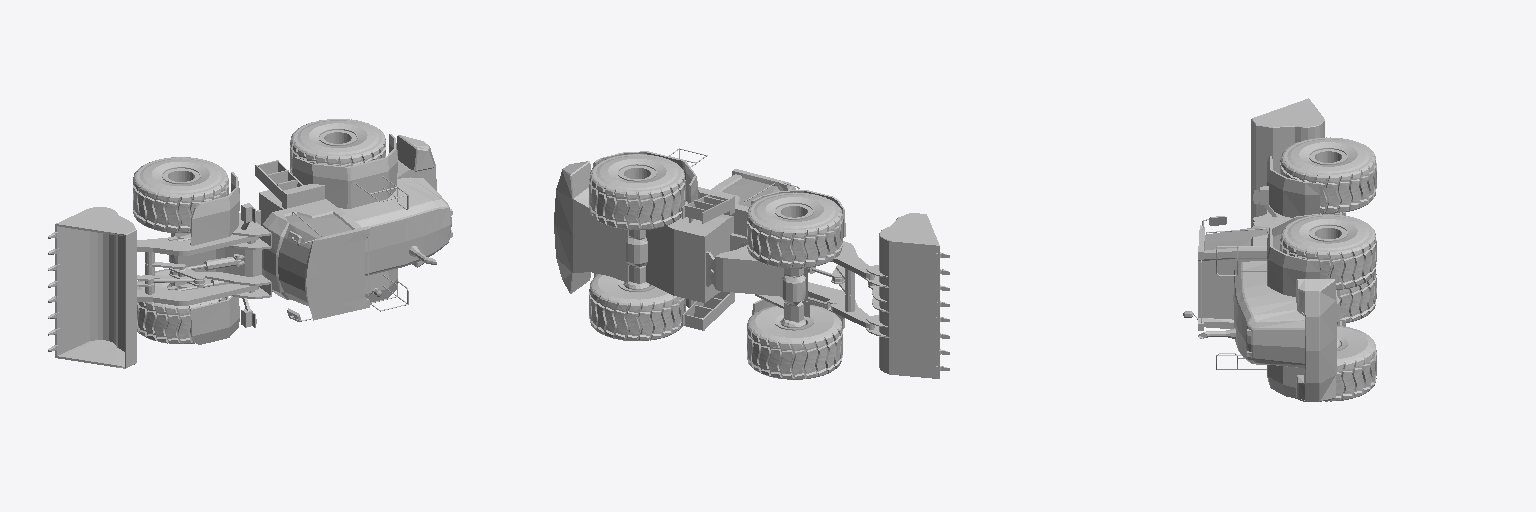
3 views of the same model, side by side, from view 1: azimuth 30°, elevation 25°; view 2: azimuth 150°, elevation 25°; view 3: azimuth 270°, elevation 25° (orthographic).
Visible parts, largest first — view 1: kovsh_low, wheel_low, base_back_low, Cabin_low, base_wings_low, wing_low, front_base_low, balki_kovsha_low, glass_low, KRYLO_low, wheel_cilinder_inside_low, amortizator_low (+2 smaller); view 2: wheel_low, base_back_low, kovsh_low, front_base_low, balki_kovsha_low, wheel_cilinder_low, wheel_cilinder_inside_low, KRYLO_low, Cabin_low, KRYLO_stairs_low, base_wings_low, glass_low (+1 smaller); view 3: wheel_low, base_back_low, kovsh_low, Cabin_low, base_wings_low, wing_low, wheel_cilinder_inside_low, glass_low.
Part boxes in pixels (x1,y1,x2,y2): kovsh_low: (55,207,136,368); wheel_low: (133,119,385,343); base_back_low: (256,135,451,275); Cabin_low: (262,199,369,320); base_wings_low: (293,134,452,302); wing_low: (190,172,239,344); front_base_low: (174,203,271,327); balki_kovsha_low: (137,234,258,305); glass_low: (252,149,434,326); KRYLO_low: (255,162,324,299); wheel_cilinder_inside_low: (162,129,357,287); amortizator_low: (145,254,241,284); wheel_low: (589,154,842,379); base_back_low: (554,161,746,302); kovsh_low: (879,213,939,378); front_base_low: (709,242,809,317); balki_kovsha_low: (808,241,888,337); wheel_cilinder_low: (624,230,805,327); wheel_cilinder_inside_low: (618,164,813,330); KRYLO_low: (681,187,734,330); Cabin_low: (711,169,790,236); KRYLO_stairs_low: (684,196,723,330); base_wings_low: (593,151,697,307); glass_low: (722,178,779,206); wheel_low: (1280,137,1376,401); base_back_low: (1233,261,1339,401); kovsh_low: (1251,98,1324,227); Cabin_low: (1198,225,1275,330); base_wings_low: (1247,214,1319,398); wing_low: (1267,156,1319,217); wheel_cilinder_inside_low: (1309,148,1347,350); glass_low: (1183,228,1304,399).
Bounding box in the file's own units: 9.54 × 3.59 × 4.1.
6 materials, 1 textured.